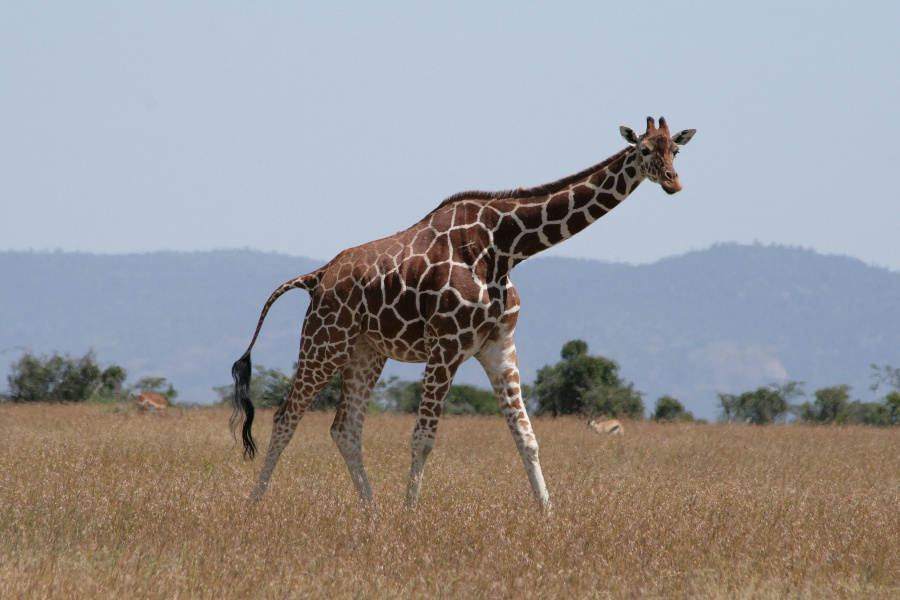giraffe: (234, 102, 701, 510)
